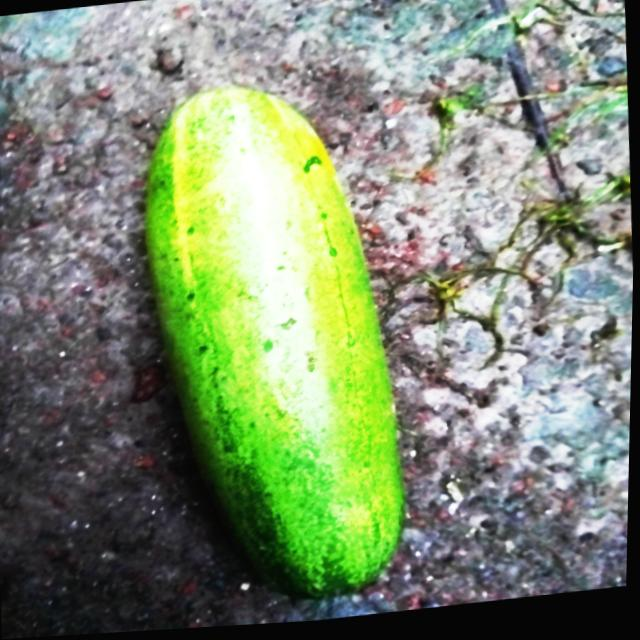Fresh-Cucumber: (128, 66, 422, 625)
